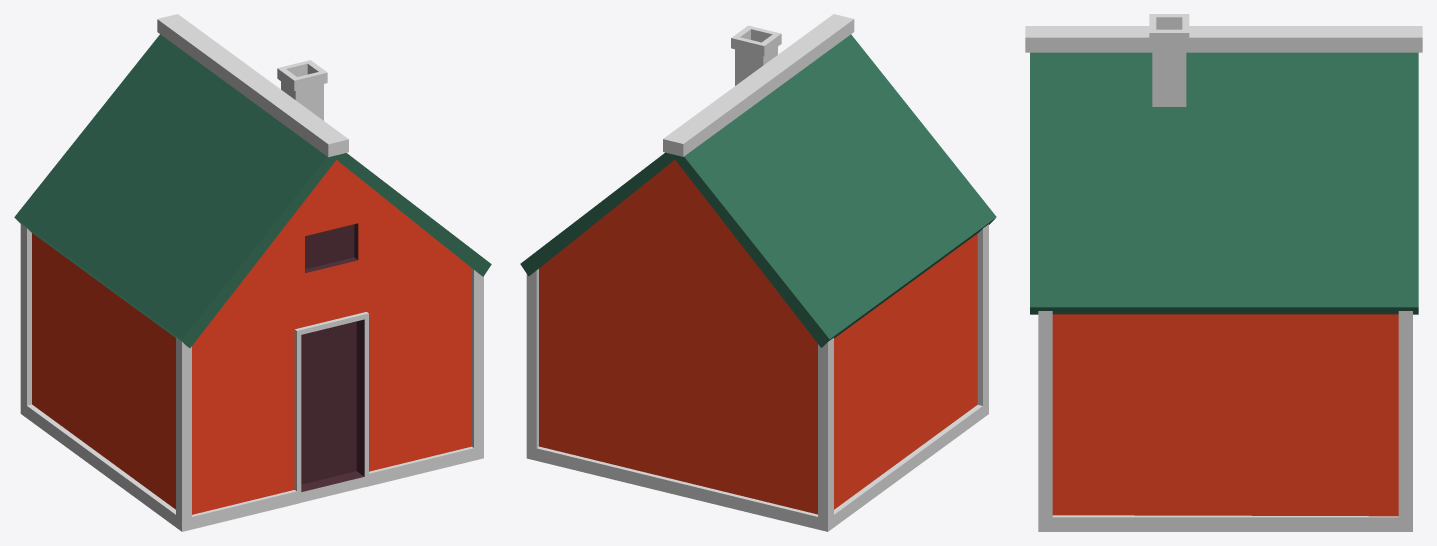
The model's file is House_19.FBX.
3 renders of one model, left to right at view 1: azimuth 30°, elevation 25°; view 2: azimuth 150°, elevation 25°; view 3: azimuth 270°, elevation 25°, orthographic. The views are drawn at different scales.
Visible parts, largest first — view 1: House_19; view 2: House_19; view 3: House_19.
Boxes of the visible parts, <box> form: House_19: <box>14,14,491,531</box>; House_19: <box>520,14,996,531</box>; House_19: <box>1025,14,1422,531</box>.
Size of the model in its own units: 4.72 by 5.48 by 4.51.
1 material, 1 textured.
